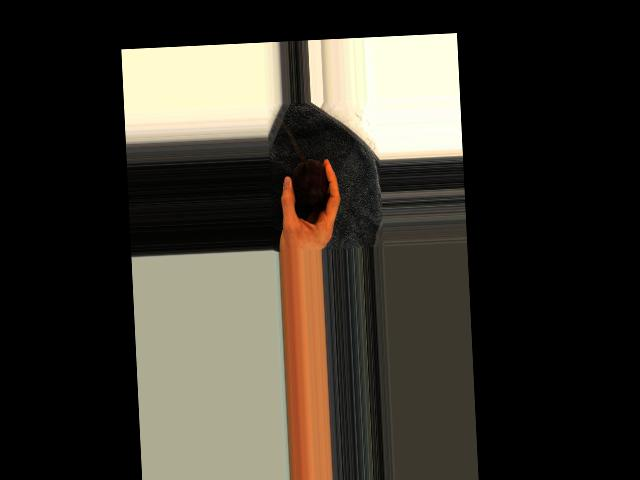beet: (290, 158, 328, 206)
